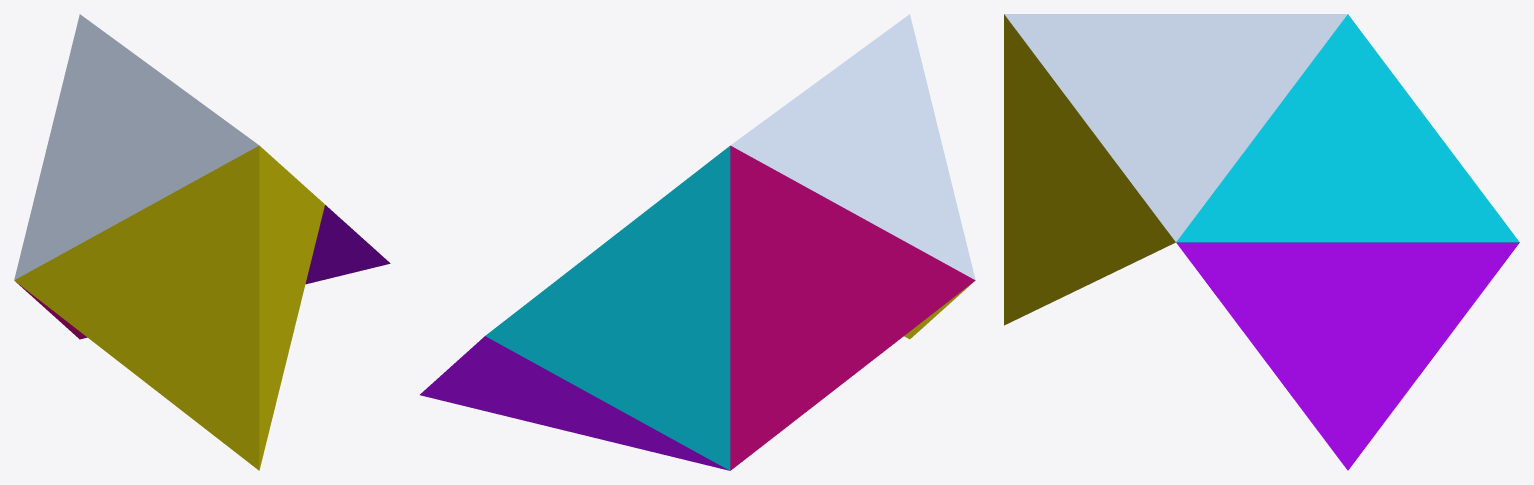
Rendered from TetragonalDisphenoidal_6.glb.
The picture shows the model from 3 angles, left to right: view 1: azimuth 30°, elevation 25°; view 2: azimuth 150°, elevation 25°; view 3: azimuth 270°, elevation 25°; orthographic projection. The views are drawn at different scales.
Bounding box in the file's own units: 6 × 4 × 6.
